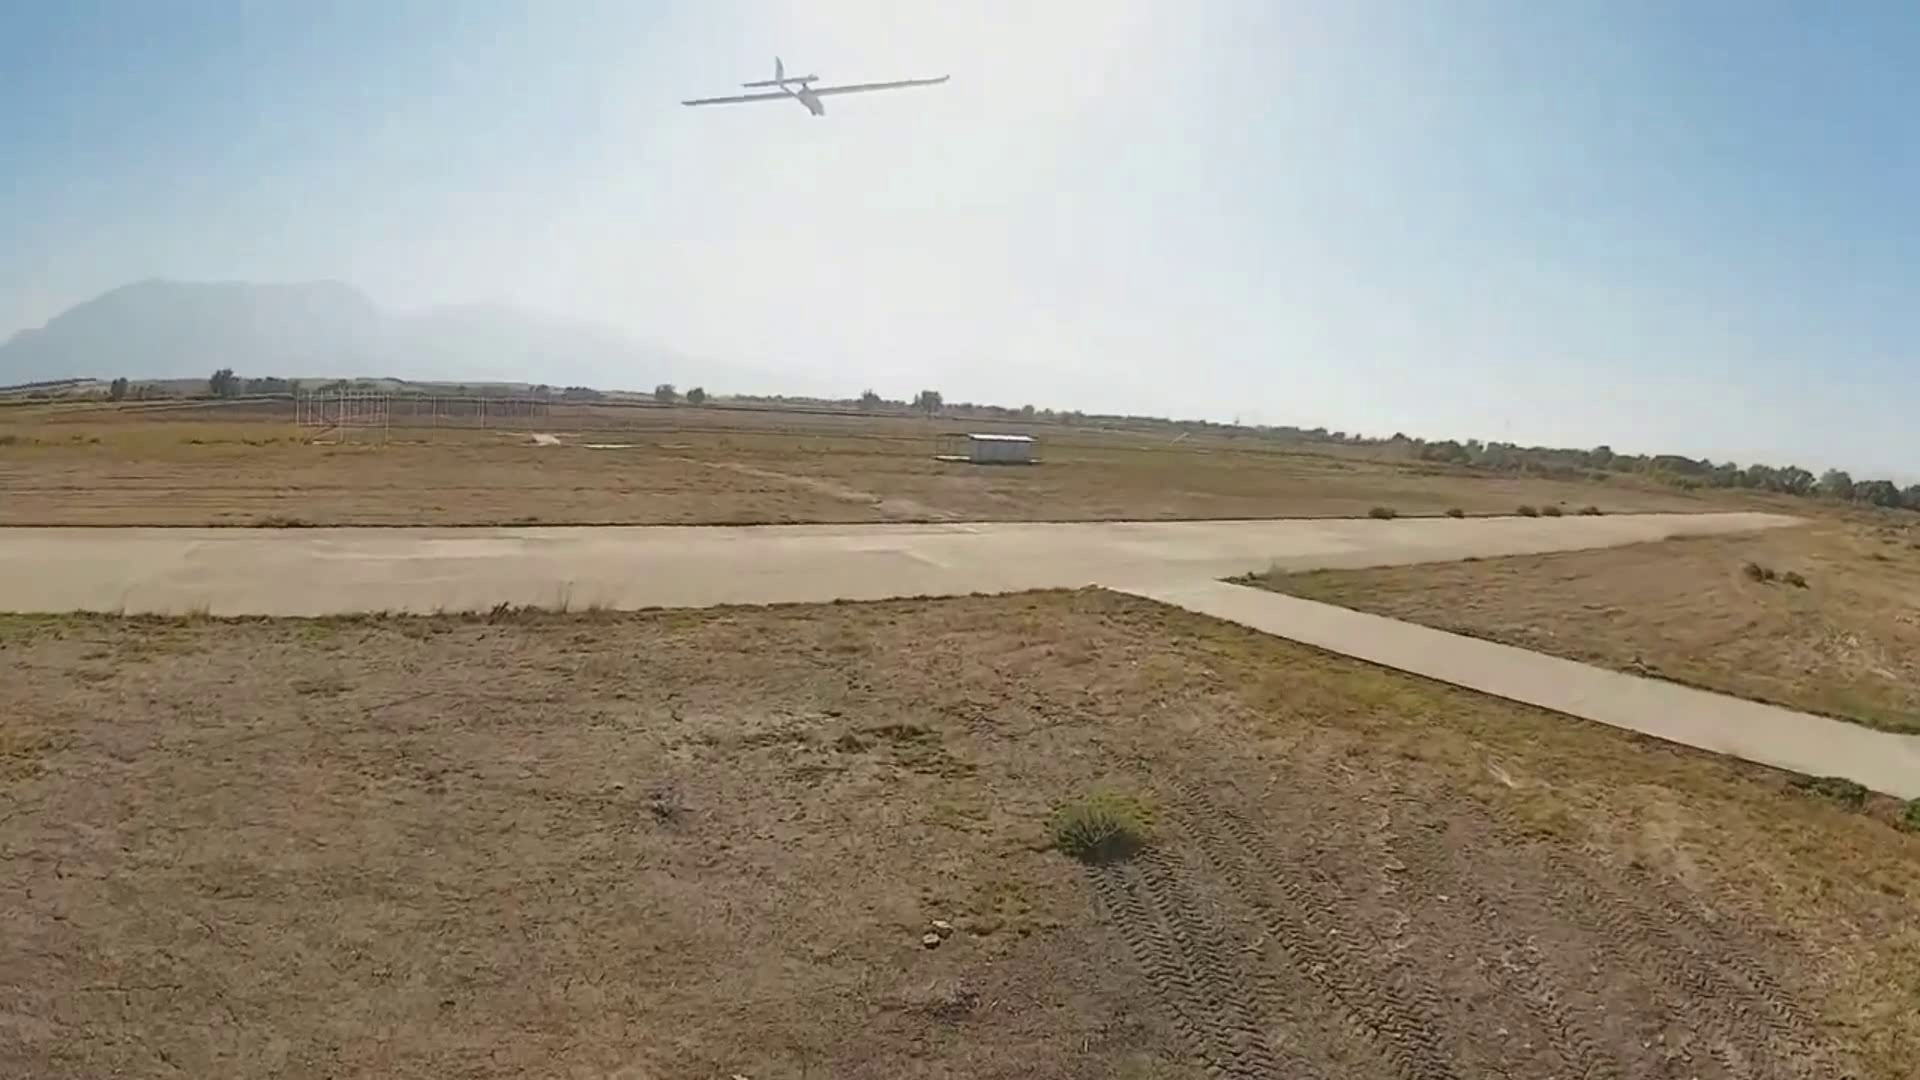airplane: (678, 59, 955, 119)
